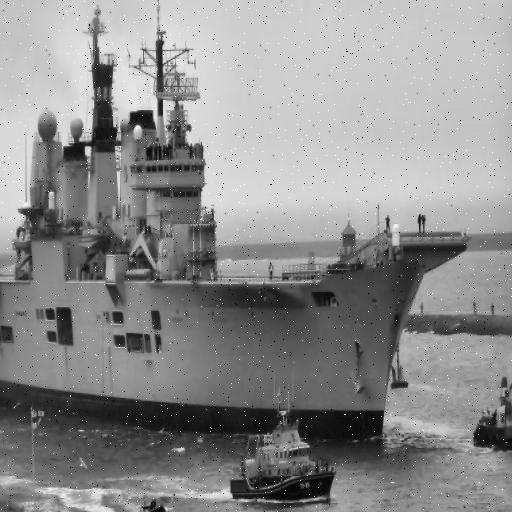Portanaves: (1, 1, 472, 453)
